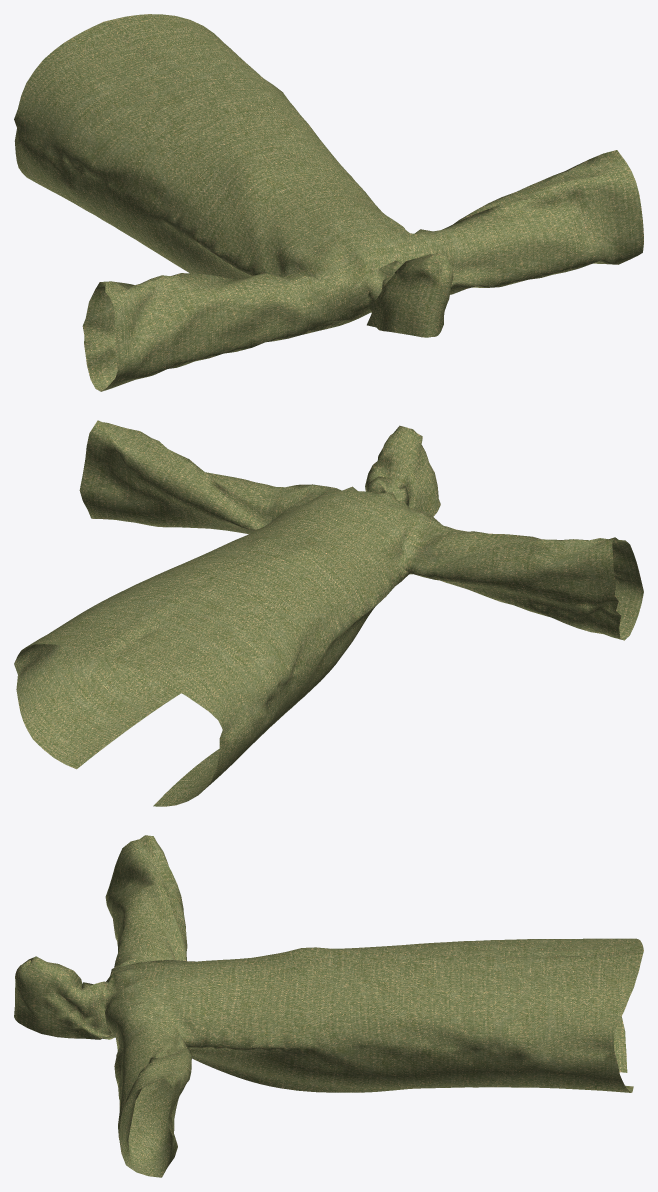
File: robe.obj
3 renders of one model, top to bottom at view 1: azimuth 30°, elevation 25°; view 2: azimuth 150°, elevation 25°; view 3: azimuth 270°, elevation 25°, orthographic. The views are drawn at different scales.
Bounding box in the file's own units: 1.68 × 0.4407 × 1.77.
1 material, 1 textured.
